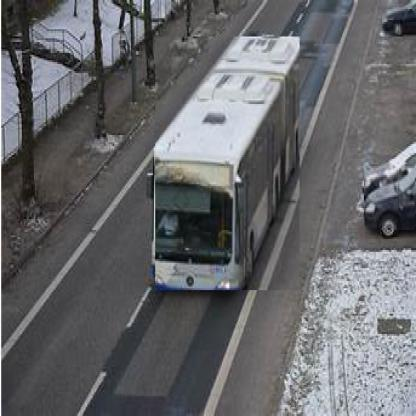bus: (155, 37, 301, 293)
car: (364, 163, 416, 233), (382, 9, 416, 38)
